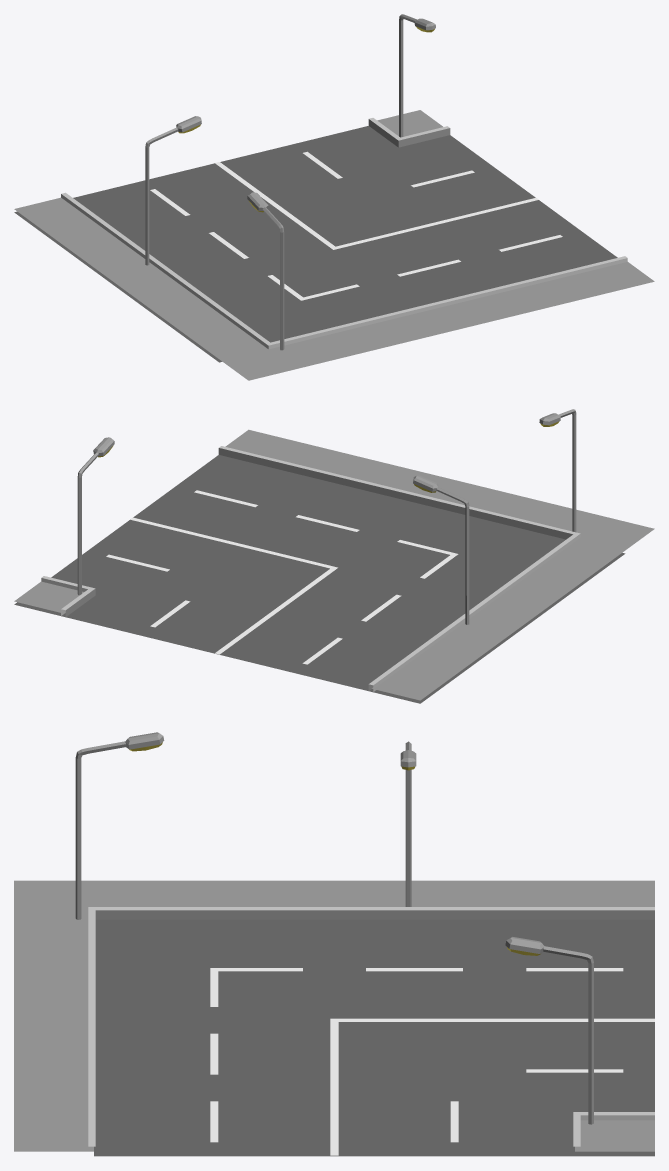
File: road_curve1.glb
3 views of the same model, one above another, from view 1: azimuth 30°, elevation 25°; view 2: azimuth 150°, elevation 25°; view 3: azimuth 270°, elevation 25° (orthographic). The views are drawn at different scales.
Visible parts, largest first — view 1: huitugou_2443_2781; view 2: huitugou_2443_2781; view 3: huitugou_2443_2781.
Part boxes in pixels (x1,y1,x2,y2): huitugou_2443_2781: (14,14,654,380); huitugou_2443_2781: (14,409,654,703); huitugou_2443_2781: (14,732,654,1156).
Size of the model in its own units: 5.81 by 1.9 by 5.81.
Materials: 1 (1 with a texture image).
